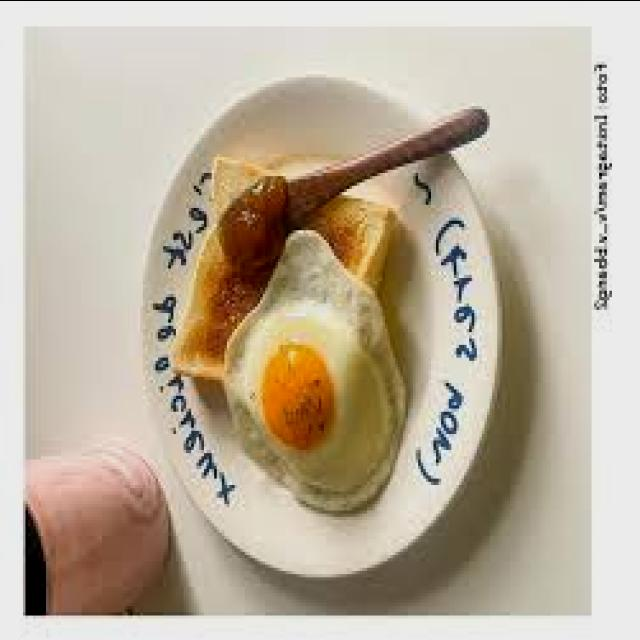telur ceplok: (224, 267, 408, 509)
